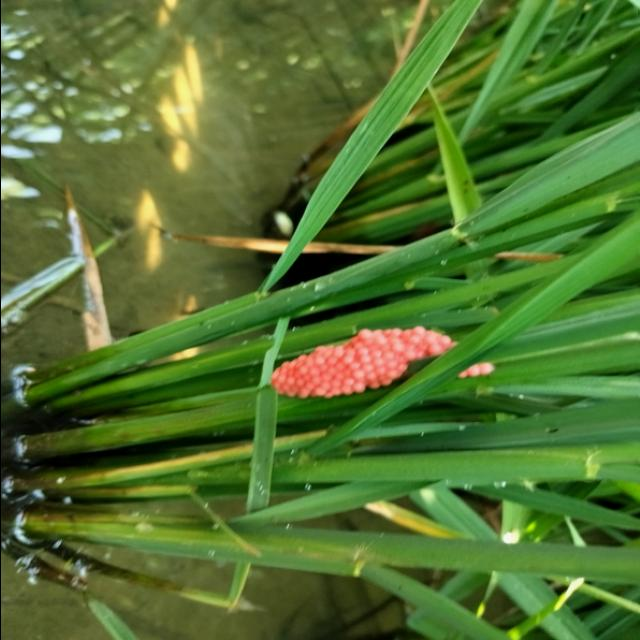Hawar Daun Bakteri: (364, 492, 472, 547)
Keong Mas: (262, 313, 504, 407)
